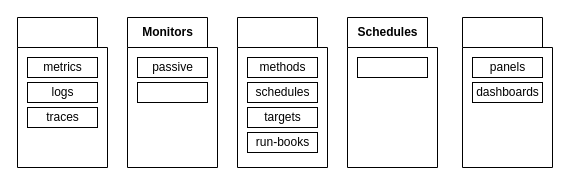
Some shapes in this 570 by 185 pixel diagram are drawn without their labels. Each missing label, with the box of its shape:
active: (136, 82, 208, 102)
maintenance: (356, 56, 428, 78)
Notifications: (236, 16, 328, 168)
Telemetry: (16, 16, 108, 168)
Visuals: (462, 16, 552, 168)
